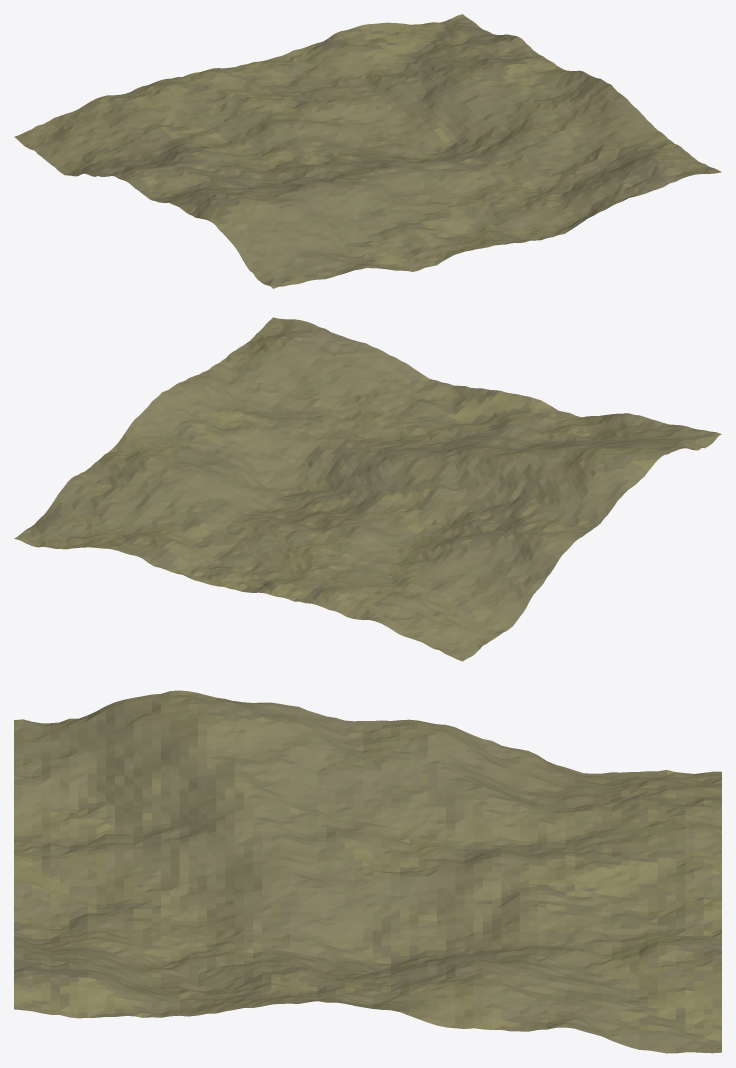
The model's file is Terrain.obj.
3 views of the same model, one above another, from view 1: azimuth 30°, elevation 25°; view 2: azimuth 150°, elevation 25°; view 3: azimuth 270°, elevation 25° (orthographic). The views are drawn at different scales.
Parts seen in each view (by area): view 1: Terrain_Plane.001; view 2: Terrain_Plane.001; view 3: Terrain_Plane.001.
Part boxes in pixels (bbox=[...]): Terrain_Plane.001: bbox=[14, 14, 721, 288]; Terrain_Plane.001: bbox=[14, 317, 721, 661]; Terrain_Plane.001: bbox=[14, 690, 721, 1053].
Bounding box in the file's own units: 5000 × 668 × 5000.
1 material, 1 textured.
